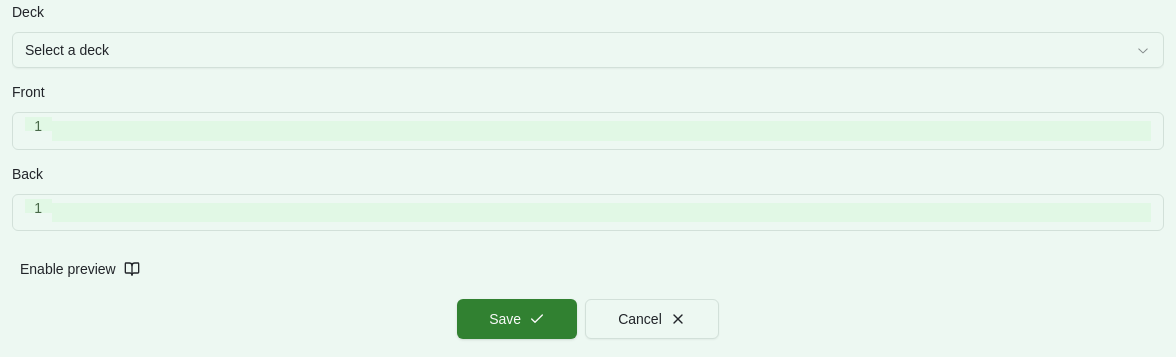
Test: CardForm › given no form input › given deck options [{"label":"Japanese","value":"uuid1"},{"label":"Polish","value":"uuid2"},{"label":"German","value":"uuid3"}] › given dropdown is expanded › for option {"label":"Polish","value":"uuid2"} › should render option in dropdown
Step 1. Click the dropdown → click(67, 50), box [12, 32, 1164, 68]
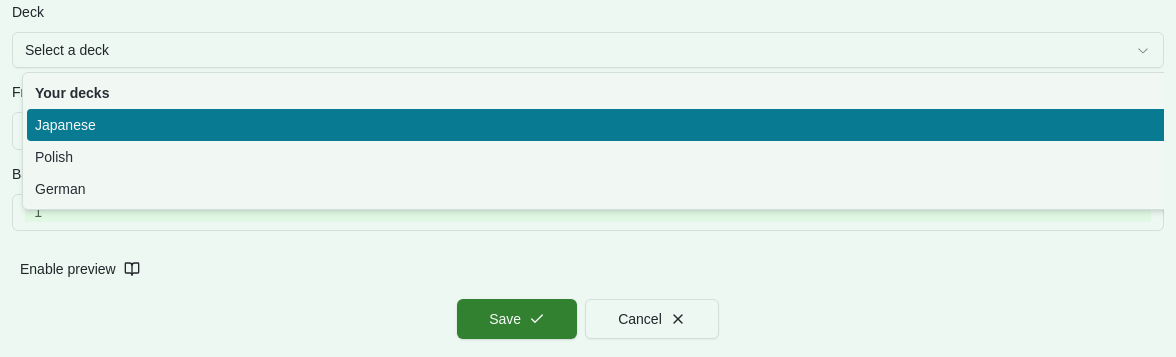
Check: the option "Polish" is shown, box [35, 149, 73, 165]
